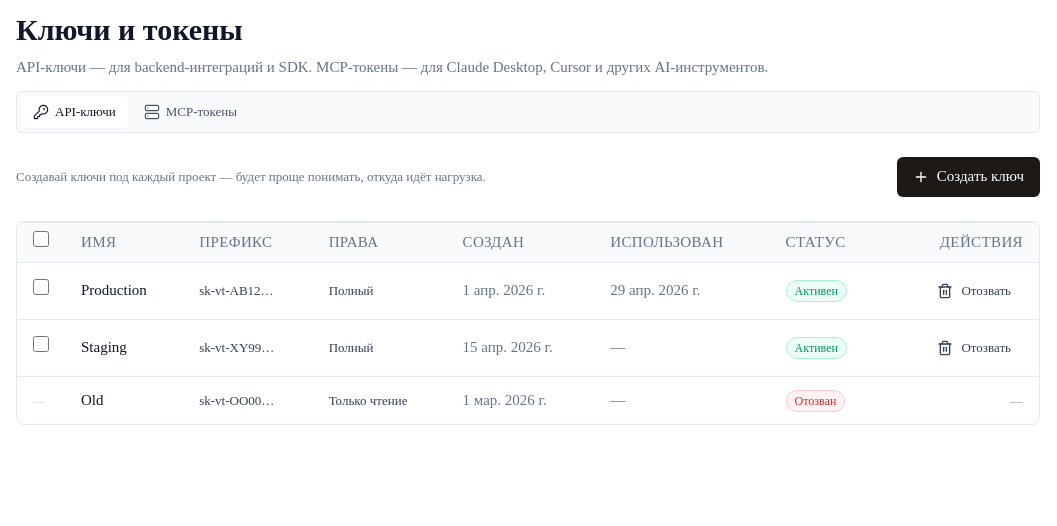
Scenario: KeysPage bulk operations (Sprint 8) › select-all — выбирает все активные ключи
The width and height of the screenshot is (1057, 526).
Click the checkbox with test id "select-all-keys" at (41, 239), box [33,231,49,247]
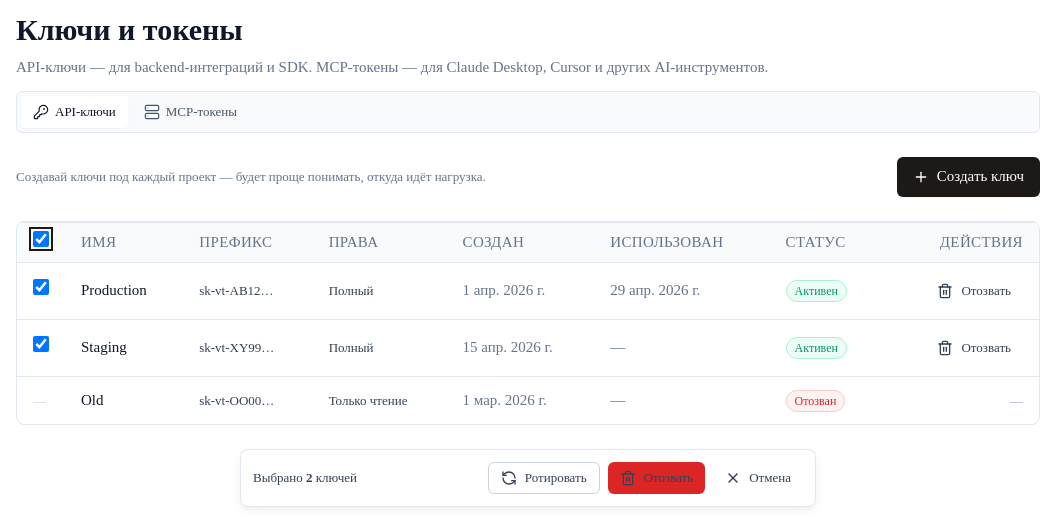
Result: the text "2" is shown at [306,470,312,485]
Result: the checkbox with test id "select-key-k-1" is checked at [33,279,49,295]
Result: the checkbox with test id "select-key-k-2" is checked at [33,336,49,352]
